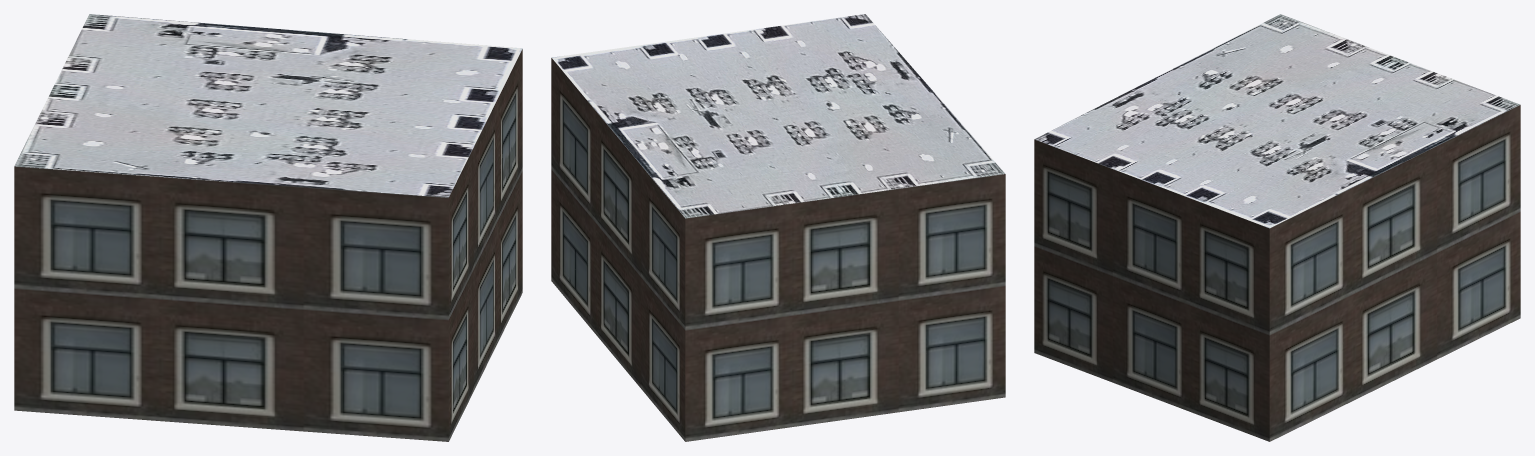
Rendered from ResTex__301.fbx.
3 renders of one model, left to right at view 1: azimuth 30°, elevation 25°; view 2: azimuth 150°, elevation 25°; view 3: azimuth 270°, elevation 25°, orthographic. The views are drawn at different scales.
Visible parts, largest first — view 1: CityEngineMaterial_16_m, CityEngineMaterial_15_m; view 2: CityEngineMaterial_16_m, CityEngineMaterial_15_m; view 3: CityEngineMaterial_16_m, CityEngineMaterial_15_m.
Part boxes in pixels (bbox=[...]): CityEngineMaterial_16_m: bbox=[14, 49, 522, 441]; CityEngineMaterial_15_m: bbox=[14, 14, 522, 197]; CityEngineMaterial_16_m: bbox=[551, 58, 1005, 441]; CityEngineMaterial_15_m: bbox=[552, 14, 1005, 218]; CityEngineMaterial_16_m: bbox=[1034, 105, 1520, 441]; CityEngineMaterial_15_m: bbox=[1034, 14, 1520, 228].
Bounding box in the file's own units: 12.92 × 6 × 12.38.
2 materials, 2 textured.
